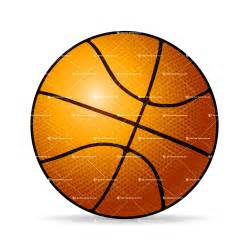basketball: (28, 29, 220, 221)
